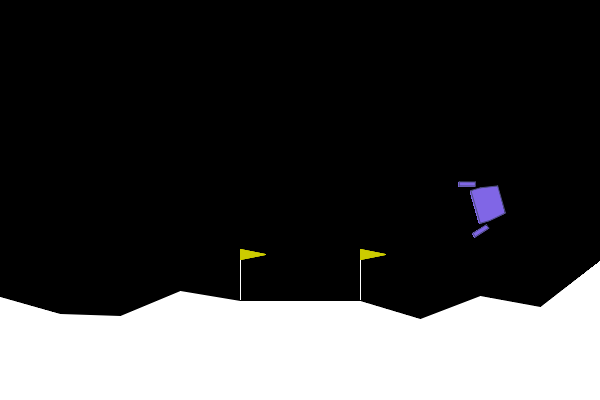lander: (456, 170, 511, 239)
